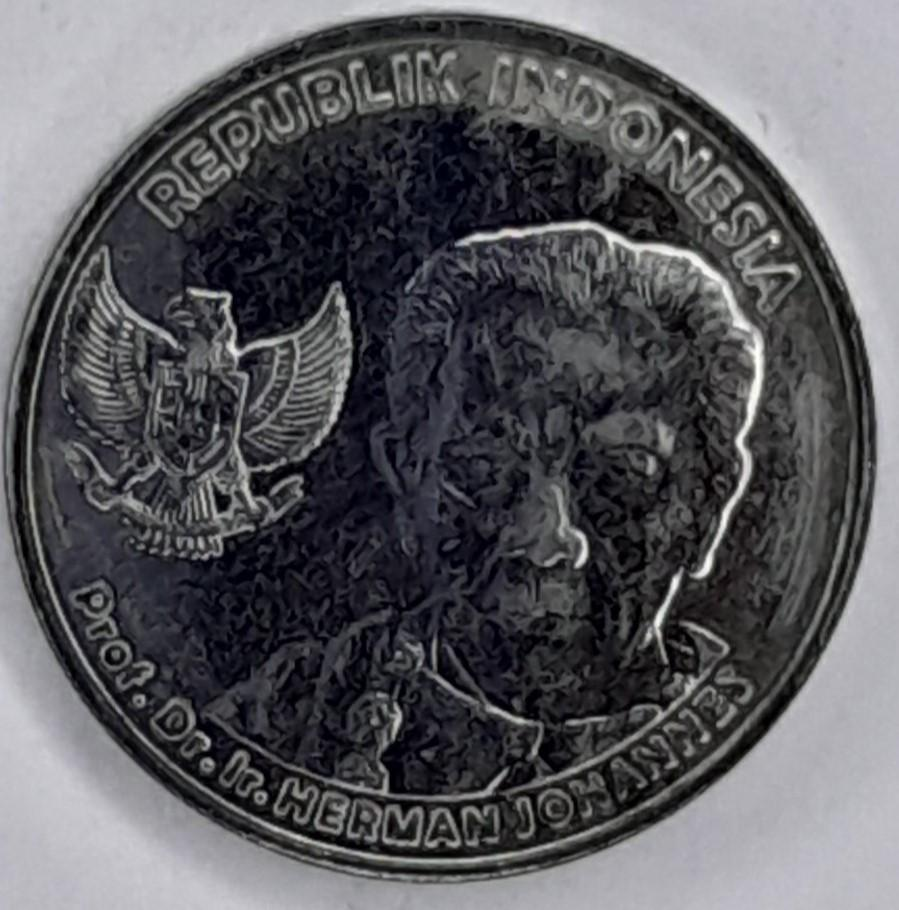coin_100_e2016: (0, 6, 881, 883)
